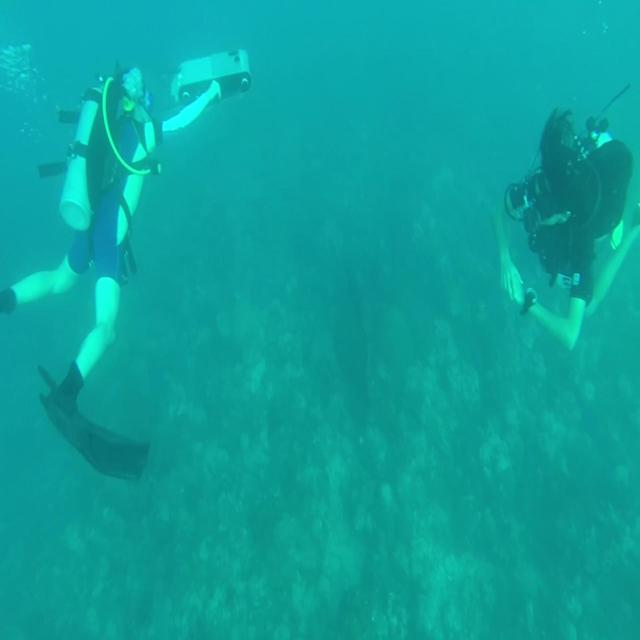human: (1, 48, 248, 480), (493, 102, 638, 351)
